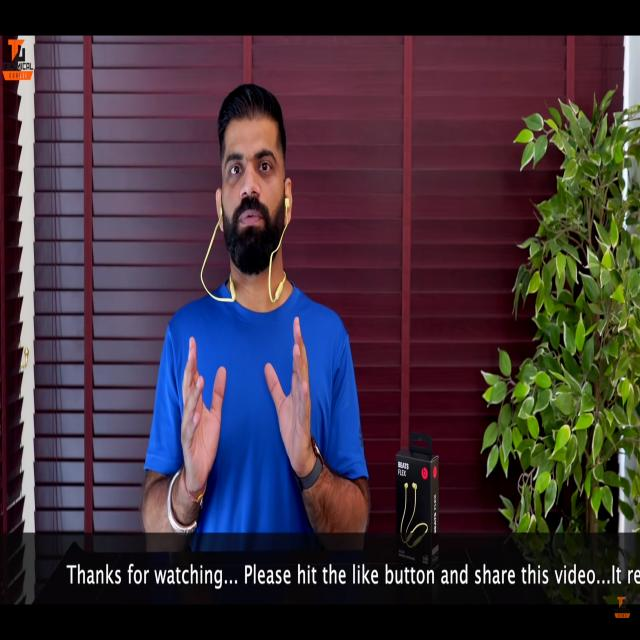Neckband: (200, 197, 290, 304)
